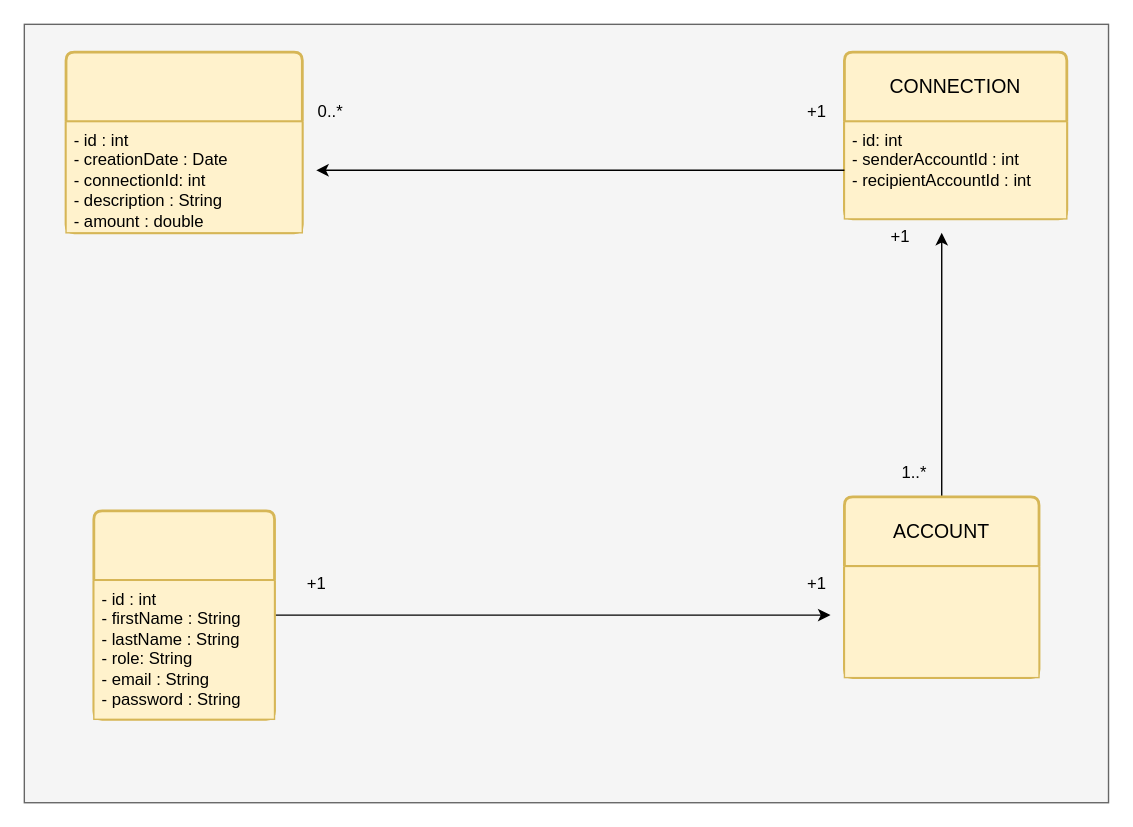
This 1133x827 diagram has some shape labels left out. Here are the shapes that lost their labels. From the top down, the box of each, then its label:
(64, 50, 303, 234): TRANSACTION
(92, 509, 275, 720): USER
(843, 565, 1039, 678): - id : int - userId: int - balance: double
